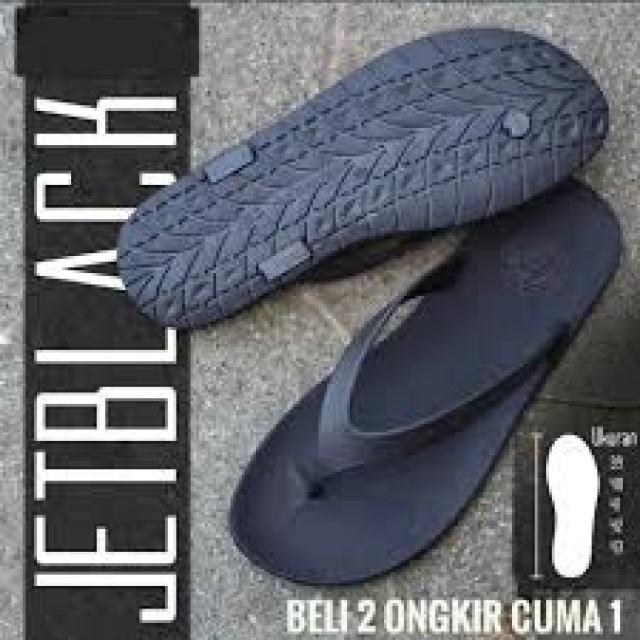Sandals: (74, 11, 640, 620)
